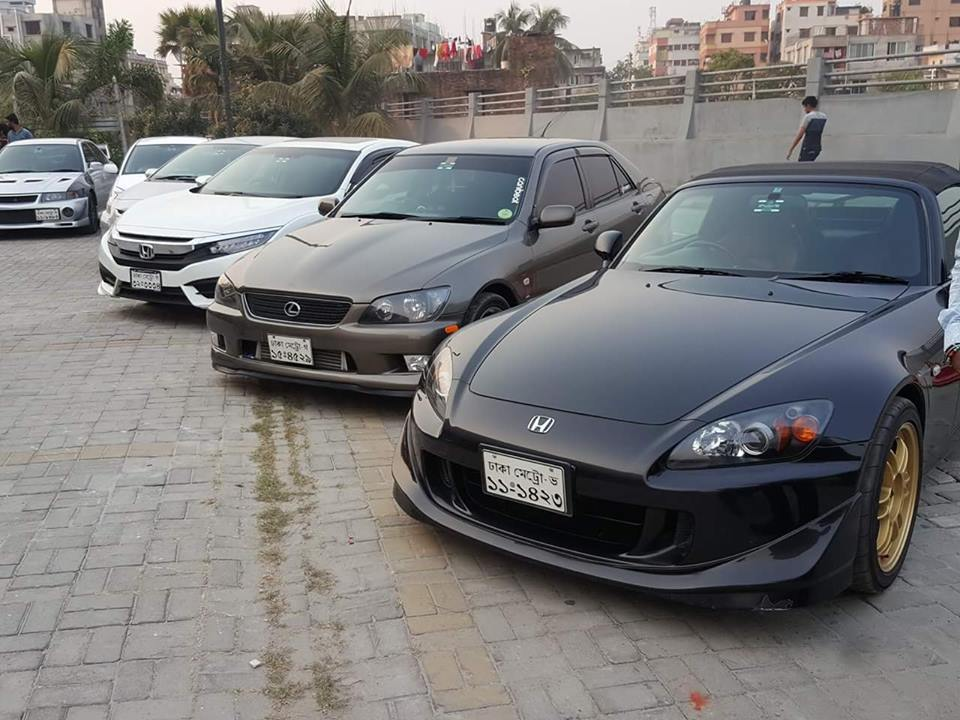registration_plate: (481, 448, 567, 514), (267, 333, 314, 366), (131, 269, 161, 292), (35, 208, 59, 220)
